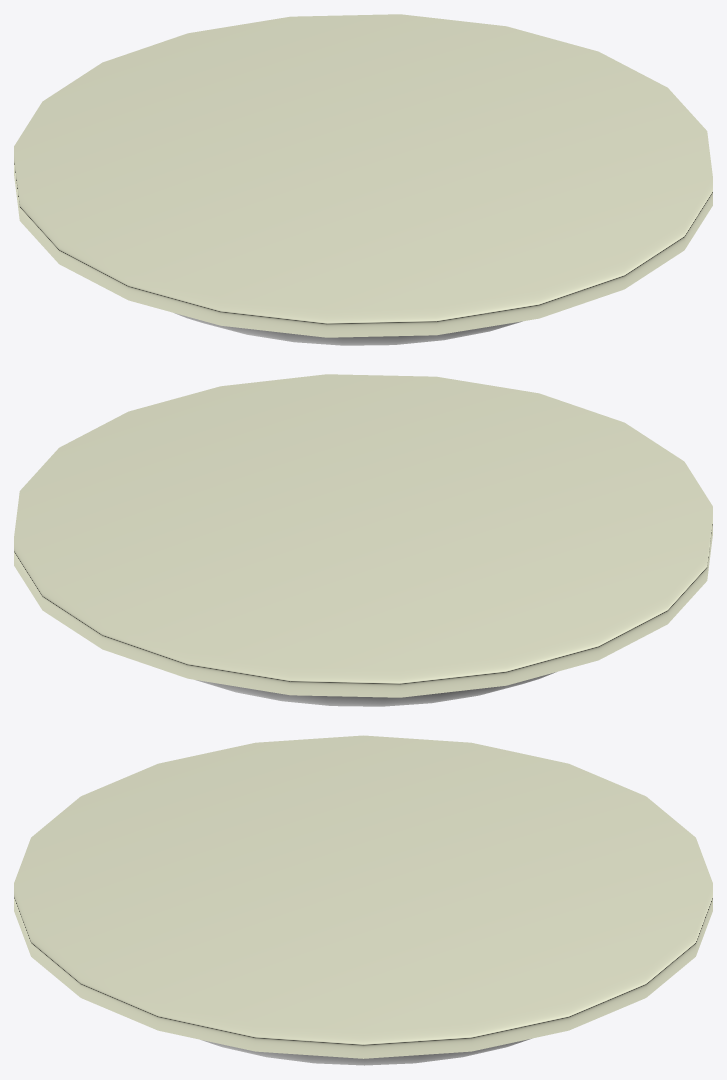
Rendered from finalCeilingLight.fbx.
3 views of the same model, one above another, from view 1: azimuth 30°, elevation 25°; view 2: azimuth 150°, elevation 25°; view 3: azimuth 270°, elevation 25° (orthographic).
Parts seen in each view (by area): view 1: Cylinder, Sphere; view 2: Cylinder, Sphere; view 3: Cylinder, Sphere.
Boxes of the visible parts, bbox=[...] form: Cylinder: bbox=[14, 14, 712, 337]; Sphere: bbox=[174, 313, 522, 345]; Cylinder: bbox=[14, 374, 712, 697]; Sphere: bbox=[195, 672, 556, 706]; Cylinder: bbox=[14, 735, 712, 1058]; Sphere: bbox=[201, 1038, 531, 1065].
Bounding box in the file's own units: 34.49 × 6.38 × 34.49.
